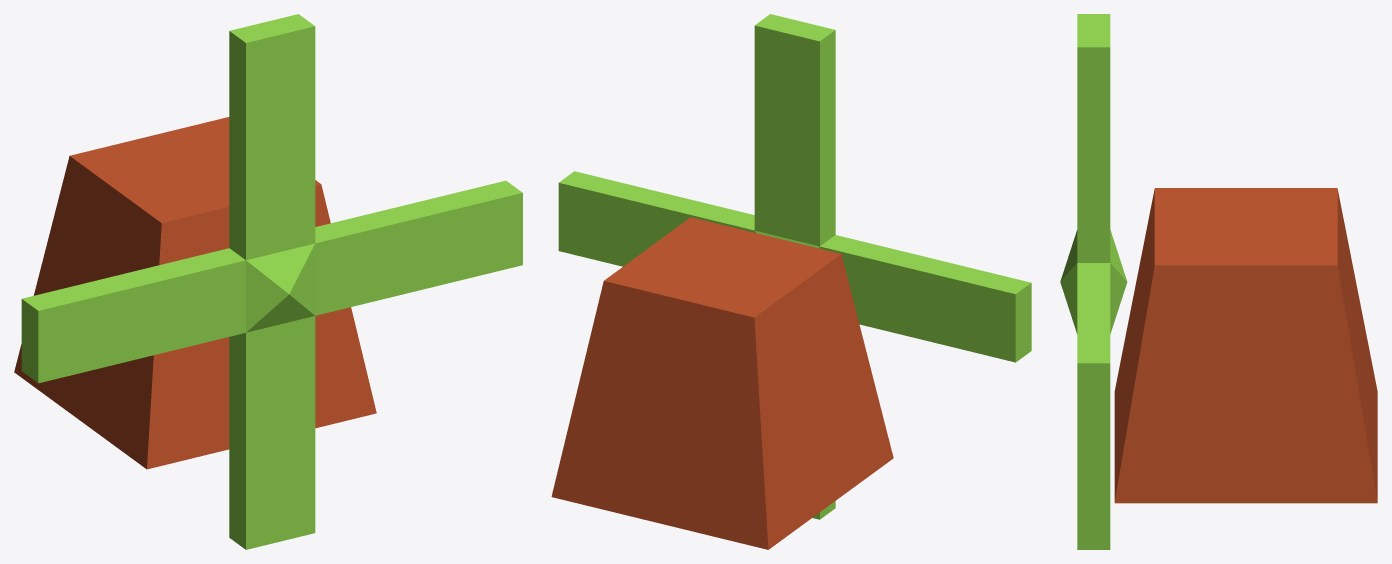
File: golf_windmill.dae
3 renders of one model, left to right at view 1: azimuth 30°, elevation 25°; view 2: azimuth 150°, elevation 25°; view 3: azimuth 270°, elevation 25°, orthographic. The views are drawn at different scales.
Parts seen in each view (by area): view 1: arms, Windmill; view 2: Windmill, arms; view 3: Windmill, arms.
Boxes of the visible parts, left/top/right/bottom form: arms: left=21, top=14, right=522, bottom=549; Windmill: left=14, top=117, right=376, bottom=469; Windmill: left=551, top=217, right=893, bottom=549; arms: left=558, top=14, right=1031, bottom=519; Windmill: left=1114, top=188, right=1377, bottom=503; arms: left=1060, top=14, right=1127, bottom=549.
Size of the model in its own units: 1.82 by 1.04 by 1.82.
1 material, 1 textured.
